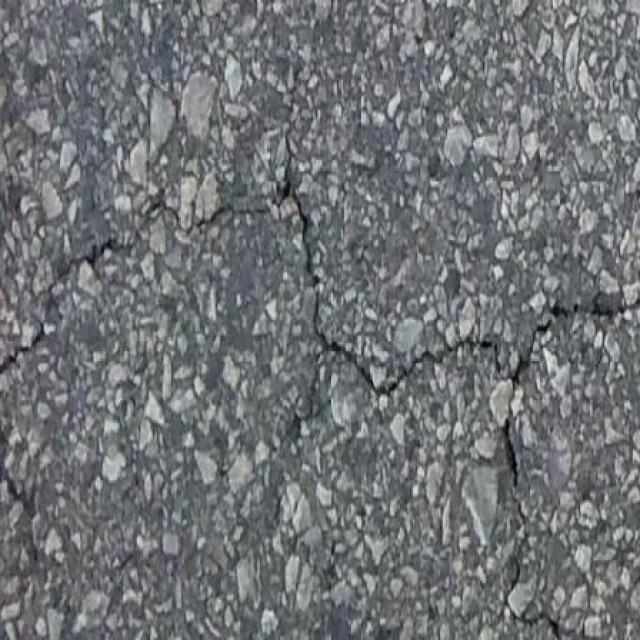Crack: (275, 158, 640, 491), (0, 200, 271, 376), (505, 504, 561, 639)
